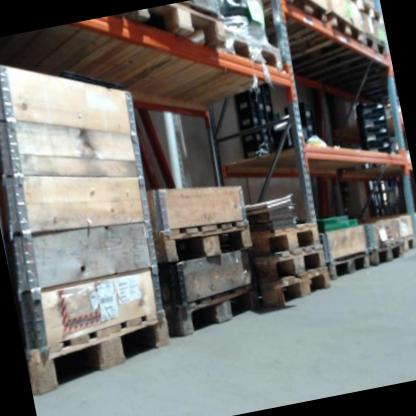pallet: (20, 298, 181, 397), (108, 0, 232, 79), (147, 213, 254, 267), (168, 280, 264, 337), (251, 0, 330, 58), (219, 18, 285, 81), (262, 266, 332, 311), (253, 221, 321, 256), (258, 243, 325, 278), (323, 6, 366, 60), (321, 247, 375, 283), (361, 25, 392, 79), (354, 0, 383, 32), (369, 240, 405, 263), (400, 232, 416, 255)
